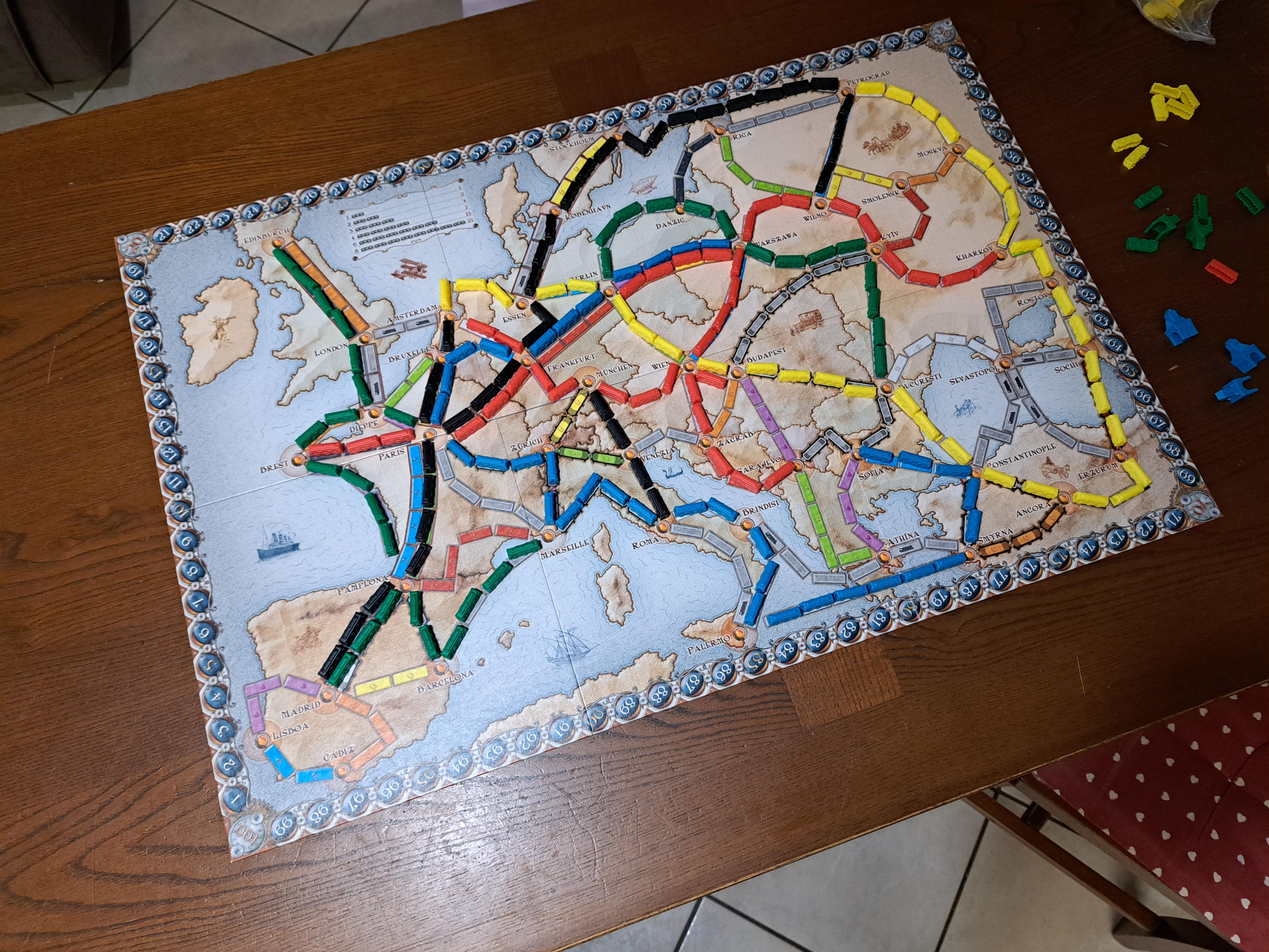corner_bl: (225, 809, 273, 862)
corner_br: (1177, 486, 1222, 527)
corner_tl: (114, 230, 153, 263)
corner_tr: (926, 17, 961, 46)
